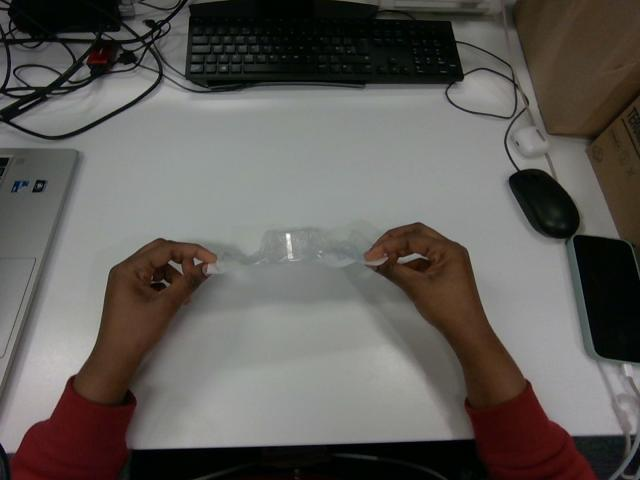gallipot: (207, 228, 385, 273)
